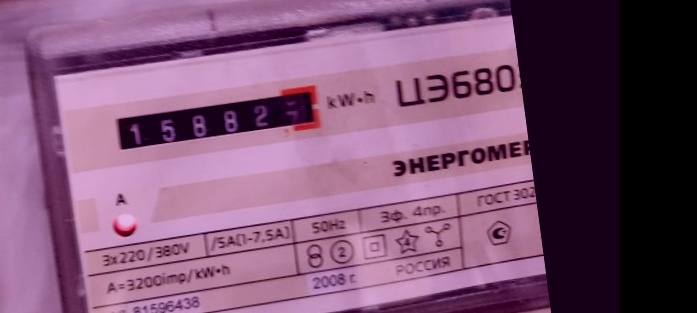1: (127, 120, 144, 147)
2: (251, 101, 271, 129)
5: (158, 116, 177, 143)
7: (283, 107, 299, 124)
8: (188, 112, 208, 138), (220, 106, 239, 133)
screen: (100, 76, 332, 165)
